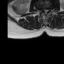CCS_normal: (44, 7, 46, 16)
LFS_severe_stenosis: (48, 6, 51, 13)
LLS_stenosis: (46, 7, 48, 13)
RFS_severe_stenosis: (40, 6, 42, 12)
RLS_severe_stenosis: (42, 6, 44, 13)
